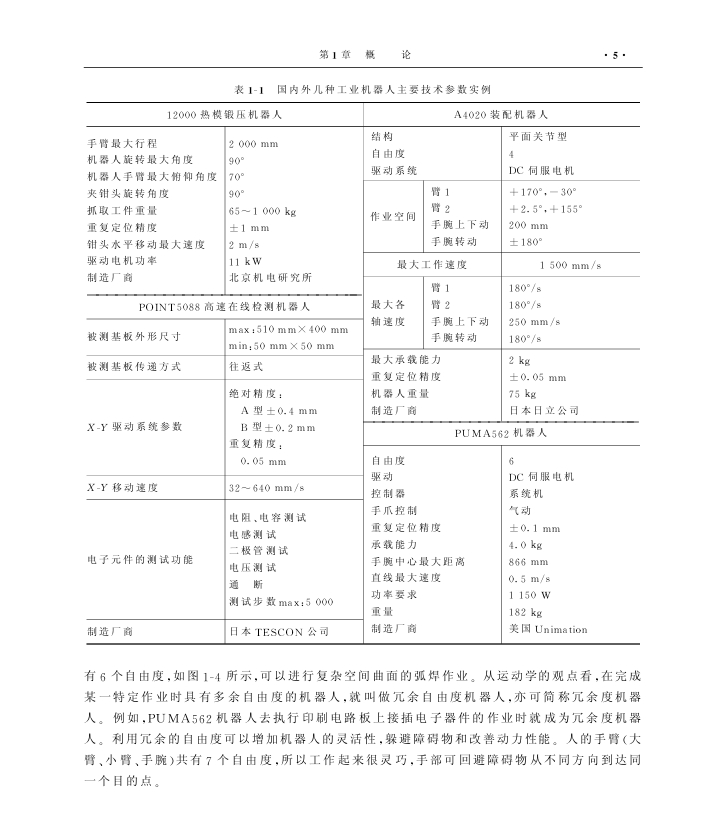table: (86, 102, 640, 645)
